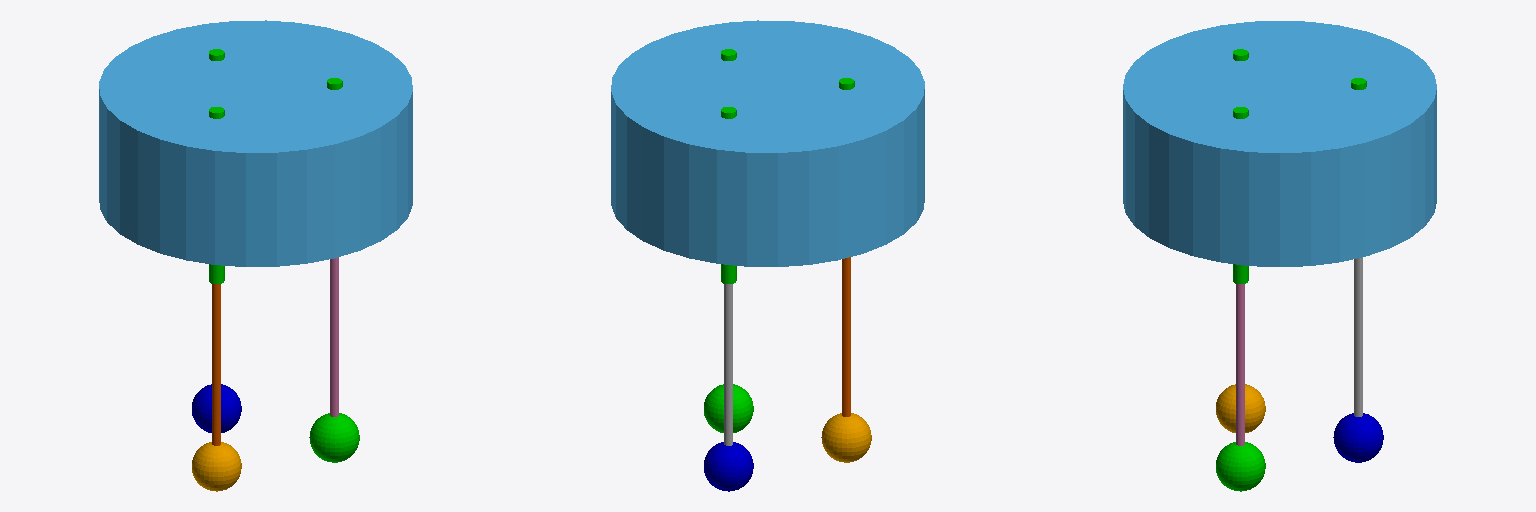
robot.urdf — gurdy:
<robot name="gurdy">

    <material name="blue">
        <color rgba="0 0 0.8 1"/>
    </material>
    <material name="red">
        <color rgba="0.8 0 0 1"/>
    </material>
    <material name="green">
        <color rgba="0 0.8 0 1"/>
    </material>
	<!-- * * * Link Definitions * * * -->

    <link name="base_link">
        <collision>
            <origin xyz="0 0 0" rpy="0 0 0"/>
            <geometry>
                <box size="0.01 0.01 0.01"/>
            </geometry>
        </collision>
		<visual>
		    <origin xyz="0 0 0.01" rpy="0 0 0"/>
			<geometry>
				<box size="0.01 0.01 0.01"/>
			</geometry>
		</visual>
	</link>

    <link name="head_link">
 	    <inertial>
            <origin xyz="0 0 0.02" rpy="0 0 0"/>
            <mass value="0.01" />
            <inertia ixx="7.58333333333e-07" ixy="0.0" ixz="0.0" iyy="7.58333333333e-07" iyz="0.0" izz="1.25e-06"/>
        </inertial>
        <collision>
            <origin xyz="0 0 0.02" rpy="0 0 0"/>
            <geometry>
                <cylinder radius="0.05" length="0.04"/>
            </geometry>
        </collision>
        <visual>
            <origin rpy="0.0 0 0" xyz="0 0 0"/>
            <geometry>
                <cylinder radius="0.05" length="0.04"/>
                <!-- <mesh filename="package://my_gurdy_description/models/gurdy/meshes/gurdy_head_v2.dae"/> -->
             <material name="red"/>
           </geometry>
        </visual>
	</link>

    <gazebo reference="head_link">
        <mu1>10.0</mu1>
        <mu2>10.0</mu2>
    </gazebo>

    <joint name="fixed" type="fixed">
        <parent link="base_link"/>
        <child link="head_link"/>
    </joint>

    <link name="upperleg_M1_link">
 	    <inertial>
            <origin xyz="0 0 0.03" rpy="0 0 0"/>
            <mass value="0.01" />
            <inertia ixx="3.015625e-05" ixy="0.0" ixz="0.0" iyy="3.015625e-05" iyz="0.0" izz="3.125e-07"/>
        </inertial>
        <collision>
            <origin xyz="0 0 0.03" rpy="0 0 0"/>
            <geometry>
                <cylinder radius="0.06" length="0.04"/>
            </geometry>
        </collision>
        <visual>
            <origin rpy="0.0 0 0" xyz="0 0 0"/>
            <geometry>
                <cylinder length="0.06" radius="0.0025"/>
                                <!-- <mesh filename="package://my_gurdy_description/models/gurdy/meshes/gurdy_higherleg_v2.dae"/> -->
            </geometry>
             <material name="green"/>
       </visual>
	</link>


    <joint name="head_upperlegM1_joint" type="revolute">
    	<parent link="head_link"/>
    	<child link="upperleg_M1_link"/>
        <origin xyz="-0.02165 -0.0125 -0.008" rpy="3.14159 0 0.523599"/>
        <limit lower="-0.2" upper="0.2" effort="1.0" velocity="0.005"/>
        <axis xyz="0 1 0"/>
	</joint>


    <gazebo>
        <plugin name="gazebo_ros_control" filename="libgazebo_ros_control.so">
            <robotNamespace>/gurdy</robotNamespace>
        </plugin>
    </gazebo>

    <transmission name="tran1">
        <type>transmission_interface/SimpleTransmission</type>
        <joint name="head_upperlegM1_joint">
            <hardwareInterface>EffortJointInterface</hardwareInterface>
        </joint>
        <actuator name="motor1">
            <hardwareInterface>EffortJointInterface</hardwareInterface>
            <mechanicalReduction>1</mechanicalReduction>
        </actuator>
    </transmission>

    <link name="upperleg_M2_link">
 	    <inertial>
            <origin xyz="0 0 0.03" rpy="0 0 0"/>
            <mass value="0.01" />
            <inertia ixx="3.015625e-05" ixy="0.0" ixz="0.0" iyy="3.015625e-05" iyz="0.0" izz="3.125e-07"/>
        </inertial>
        <collision>
            <origin xyz="0 0 0.03" rpy="0 0 0"/>
            <geometry>
                <cylinder length="0.06" radius="0.0025"/>
            </geometry>
        </collision>
        <visual>
            <origin rpy="0.0 0 0" xyz="0 0 0"/>
            <geometry>
                <cylinder length="0.06" radius="0.0025"/>
                <!-- <mesh filename="package://my_gurdy_description/models/gurdy/meshes/gurdy_higherleg_v2.dae"/> -->
            </geometry>
             <material name="green"/>
        </visual>
	</link>


    <joint name="head_upperlegM2_joint" type="revolute">
    	<parent link="head_link"/>
    	<child link="upperleg_M2_link"/>
        <origin xyz="0.02165 -0.0125 -0.008" rpy="3.14159 0 2.61799"/>
        <limit lower="-0.2" upper="0.2" effort="1.0" velocity="0.005"/>
        <axis xyz="0 1 0"/>
	</joint>

    <transmission name="tran2">
        <type>transmission_interface/SimpleTransmission</type>
        <joint name="head_upperlegM2_joint">
            <hardwareInterface>EffortJointInterface</hardwareInterface>
        </joint>
        <actuator name="motor2">
            <hardwareInterface>EffortJointInterface</hardwareInterface>
            <mechanicalReduction>1</mechanicalReduction>
        </actuator>
    </transmission>


    <link name="upperleg_M3_link">
 	    <inertial>
            <origin xyz="0 0 0.03" rpy="0 0 0"/>
            <mass value="0.01" />
            <inertia ixx="3.015625e-05" ixy="0.0" ixz="0.0" iyy="3.015625e-05" iyz="0.0" izz="3.125e-07"/>
        </inertial>
        <collision>
            <origin xyz="0 0 0.03" rpy="0 0 0"/>
            <geometry>
                <cylinder length="0.06" radius="0.0025"/>
            </geometry>
        </collision>
        <visual>
            <origin rpy="0.0 0 0" xyz="0 0 0"/>
            <geometry>
                <cylinder length="0.06" radius="0.0025"/>
                <!-- <mesh filename="package://my_gurdy_description/models/gurdy/meshes/gurdy_higherleg_v2.dae"/> -->
            </geometry>
             <material name="green"/>
        </visual>
	</link>


    <joint name="head_upperlegM3_joint" type="revolute">
    	<parent link="head_link"/>
    	<child link="upperleg_M3_link"/>
        <origin xyz="0 0.025 -0.008" rpy="3.14159 0 -1.5708"/>
        <limit lower="-0.2" upper="0.2" effort="1.0" velocity="0.005"/>
        <axis xyz="0 1 0"/>
	</joint>

    <transmission name="tran3">
        <type>transmission_interface/SimpleTransmission</type>
        <joint name="head_upperlegM3_joint">
            <hardwareInterface>EffortJointInterface</hardwareInterface>
        </joint>
        <actuator name="motor3">
            <hardwareInterface>EffortJointInterface</hardwareInterface>
            <mechanicalReduction>1</mechanicalReduction>
        </actuator>
    </transmission>


    <link name="lowerleg_M1_link">
 	    <inertial>
            <origin xyz="0 0 0.03" rpy="0 0 0"/>
            <mass value="0.01" />
            <inertia ixx="3.005625e-05" ixy="0.0" ixz="0.0" iyy="3.005625e-05" iyz="0.0" izz="1.125e-07"/>
        </inertial>
        <collision>
            <origin xyz="0 0 0.03" rpy="0 0 0"/>
            <geometry>
                <cylinder length="0.06" radius="0.0015"/>
            </geometry>
        </collision>
        <visual>
            <origin rpy="0.0 0 0" xyz="0 0 0"/>
            <geometry>
                <cylinder length="0.06" radius="0.0015"/>
                <!-- <mesh filename="package://my_gurdy_description/models/gurdy/meshes/gurdy_lowerleg_v2.dae"/> -->
            </geometry>
        </visual>
	</link>


    <joint name="upperlegM1_lowerlegM1_joint" type="revolute">
    	<parent link="upperleg_M1_link"/>
    	<child link="lowerleg_M1_link"/>
        <origin xyz="0 0.00 0.06"/>
        <limit lower="-0.2" upper="0.2" effort="1.0" velocity="0.005"/>
        <axis xyz="0 1 0"/>
	</joint>

    <transmission name="tran4">
        <type>transmission_interface/SimpleTransmission</type>
        <joint name="upperlegM1_lowerlegM1_joint">
            <hardwareInterface>EffortJointInterface</hardwareInterface>
        </joint>
        <actuator name="motor4">
            <hardwareInterface>EffortJointInterface</hardwareInterface>
            <mechanicalReduction>1</mechanicalReduction>
        </actuator>
    </transmission>

    <link name="lowerleg_M2_link">
 	    <inertial>
            <origin xyz="0 0 0.03" rpy="0 0 0"/>
            <mass value="0.01" />
            <inertia ixx="3.005625e-05" ixy="0.0" ixz="0.0" iyy="3.005625e-05" iyz="0.0" izz="1.125e-07"/>
        </inertial>
        <collision>
            <origin xyz="0 0 0.03" rpy="0 0 0"/>
            <geometry>
                <cylinder length="0.06" radius="0.0015"/>
            </geometry>
        </collision>
        <visual>
            <origin rpy="0.0 0 0" xyz="0 0 0"/>
            <geometry>
                <cylinder length="0.06" radius="0.0015"/>
                <!-- <mesh filename="package://my_gurdy_description/models/gurdy/meshes/gurdy_lowerleg_v2.dae"/> -->
            </geometry>
        </visual>
	</link>


    <joint name="upperlegM2_lowerlegM2_joint" type="revolute">
    	<parent link="upperleg_M2_link"/>
    	<child link="lowerleg_M2_link"/>
        <origin xyz="0 0.00 0.06" rpy="0 0 0"/>
        <limit lower="-0.2" upper="0.2" effort="1.0" velocity="0.005"/>
        <axis xyz="0 1 0"/>
	</joint>

    <transmission name="tran5">
        <type>transmission_interface/SimpleTransmission</type>
        <joint name="upperlegM2_lowerlegM2_joint">
            <hardwareInterface>EffortJointInterface</hardwareInterface>
        </joint>
        <actuator name="motor5">
            <hardwareInterface>EffortJointInterface</hardwareInterface>
            <mechanicalReduction>1</mechanicalReduction>
        </actuator>
    </transmission>

    <link name="lowerleg_M3_link">
 	    <inertial>
            <origin xyz="0 0 0.03" rpy="0 0 0"/>
            <mass value="0.01" />
            <inertia ixx="3.005625e-05" ixy="0.0" ixz="0.0" iyy="3.005625e-05" iyz="0.0" izz="1.125e-07"/>
        </inertial>
        <collision>
            <origin xyz="0 0 0.03" rpy="0 0 0"/>
            <geometry>
                <cylinder length="0.06" radius="0.0015"/>
            </geometry>
        </collision>
        <visual>
            <origin rpy="0.0 0 0" xyz="0 0 0"/>
            <geometry>
                <cylinder length="0.06" radius="0.0015"/>
                <!-- <mesh filename="package://my_gurdy_description/models/gurdy/meshes/gurdy_lowerleg_v2.dae"/> -->
            </geometry>
        </visual>
	</link>


    <joint name="upperlegM3_lowerlegM3_joint" type="revolute">
    	<parent link="upperleg_M3_link"/>
    	<child link="lowerleg_M3_link"/>
        <origin xyz="0 0.00 0.06" rpy="0 0 0"/>
        <limit lower="-0.2" upper="0.2" effort="1.0" velocity="0.005"/>
        <axis xyz="0 1 0"/>
	</joint>

    <transmission name="tran6">
        <type>transmission_interface/SimpleTransmission</type>
        <joint name="upperlegM3_lowerlegM3_joint">
            <hardwareInterface>EffortJointInterface</hardwareInterface>
        </joint>
        <actuator name="motor6">
            <hardwareInterface>EffortJointInterface</hardwareInterface>
            <mechanicalReduction>1</mechanicalReduction>
        </actuator>
    </transmission>


    <link name="footM1_link">
 	    <inertial>
            <origin xyz="0 0 0" rpy="0 0 0"/>
            <mass value="0.01" />
            <inertia ixx="1.28e-06" ixy="0.0" ixz="0.0" iyy="1.28e-06" iyz="0.0" izz="1.28e-06"/>
        </inertial>
        <collision>
            <origin xyz="0 0 0" rpy="0 0 0"/>
            <geometry>
                <sphere radius="0.008"/>
            </geometry>
        </collision>
        <visual>
            <origin rpy="0.0 0 0" xyz="0 0 0"/>
            <geometry>
                <sphere radius="0.008"/>
            </geometry>
        </visual>
	</link>

    <gazebo reference="footM1_link">
        <kp>1000.0</kp>
        <kd>1000.0</kd>
        <mu1>10.0</mu1>
        <mu2>10.0</mu2>
        <material>Gazebo/Red</material>
    </gazebo>


    <joint name="basefoot_peg_M1_basefoot_peg_M1_joint_joint" type="fixed">
        <parent link="lowerleg_M1_link"/>
        <child link="footM1_link"/>
        <origin xyz="0 0 0.035" rpy="0 0 0"/>
    </joint>

    <link name="footM2_link">
 	    <inertial>
            <origin xyz="0 0 0" rpy="0 0 0"/>
            <mass value="0.01" />
            <inertia ixx="1.28e-06" ixy="0.0" ixz="0.0" iyy="1.28e-06" iyz="0.0" izz="1.28e-06"/>
        </inertial>
        <collision>
            <origin xyz="0 0 0" rpy="0 0 0"/>
            <geometry>
                <sphere radius="0.008"/>
            </geometry>
        </collision>
        <visual>
            <origin rpy="0.0 0 0" xyz="0 0 0"/>
            <geometry>
                <sphere radius="0.008"/>
            </geometry>
              <material name="green"/>
       </visual>
	</link>

    <gazebo reference="footM2_link">
        <kp>1000.0</kp>
        <kd>1000.0</kd>
        <mu1>10.0</mu1>
        <mu2>10.0</mu2>
        <material>Gazebo/Green</material>
    </gazebo>

    <joint name="basefoot_peg_M2_basefoot_peg_M2_joint_joint" type="fixed">
        <parent link="lowerleg_M2_link"/>
        <child link="footM2_link"/>
        <origin xyz="0 0 0.035" rpy="0 0 0"/>
    </joint>

    <link name="footM3_link">
 	    <inertial>
            <origin xyz="0 0 0" rpy="0 0 0"/>
            <mass value="0.01" />
            <inertia ixx="1.28e-06" ixy="0.0" ixz="0.0" iyy="1.28e-06" iyz="0.0" izz="1.28e-06"/>
        </inertial>
        <collision>
            <origin xyz="0 0 0" rpy="0 0 0"/>
            <geometry>
                <sphere radius="0.008"/>
            </geometry>
        </collision>
        <visual>
            <origin rpy="0.0 0 0" xyz="0 0 0"/>
            <geometry>
                <sphere radius="0.008"/>
            </geometry>
              <material name="blue"/>
        </visual>
	</link>

    <gazebo reference="footM3_link">
        <kp>1000.0</kp>
        <kd>1000.0</kd>
        <mu1>10.0</mu1>
        <mu2>10.0</mu2>
        <material>Gazebo/Blue</material>
    </gazebo>

    <joint name="basefoot_peg_M3_basefoot_peg_M3_joint_joint" type="fixed">
        <parent link="lowerleg_M3_link"/>
        <child link="footM3_link"/>
        <origin xyz="0 0 0.035" rpy="0 0 0"/>

    </joint>


    <gazebo>
        <plugin name="gazebo_ros_imu_controller" filename="libgazebo_ros_imu.so">
          <robotNamespace>/gurdy</robotNamespace>
          <topicName>imu/data</topicName>
          <serviceName>imu/service</serviceName>
          <bodyName>base_link</bodyName>
          <gaussianNoise>0</gaussianNoise>
          <rpyOffsets>0 0 0</rpyOffsets>
          <updateRate>10.0</updateRate>
          <alwaysOn>true</alwaysOn>
          <gaussianNoise>0</gaussianNoise>
        </plugin>
    </gazebo>
</robot>

--- Render facts (derived) ---
3 views of the same robot in one strip: view 1: azimuth 30°, elevation 25°; view 2: azimuth 150°, elevation 25°; view 3: azimuth 270°, elevation 25° (orthographic).
Robot: gurdy — 11 links, 10 joints (6 revolute, 4 fixed); root link base_link; default pose: every joint at zero.
Visible links, largest first — view 1: head_link, footM2_link, footM1_link, footM3_link, lowerleg_M1_link, lowerleg_M2_link; view 2: head_link, footM1_link, footM3_link, footM2_link, lowerleg_M3_link, lowerleg_M1_link; view 3: head_link, footM3_link, footM2_link, footM1_link, lowerleg_M2_link, lowerleg_M3_link.
Link boxes in pixels (x1,y1,x2,y2): head_link: [99, 20, 412, 266]; footM2_link: [309, 413, 359, 462]; footM1_link: [192, 442, 241, 491]; footM3_link: [192, 384, 241, 432]; lowerleg_M1_link: [212, 284, 220, 445]; lowerleg_M2_link: [330, 257, 338, 416]; head_link: [611, 20, 924, 266]; footM1_link: [821, 413, 871, 462]; footM3_link: [704, 442, 753, 491]; footM2_link: [704, 384, 753, 432]; lowerleg_M3_link: [724, 284, 732, 445]; lowerleg_M1_link: [842, 257, 850, 416]; head_link: [1123, 21, 1436, 266]; footM3_link: [1333, 413, 1383, 462]; footM2_link: [1216, 442, 1265, 491]; footM1_link: [1216, 384, 1265, 432]; lowerleg_M2_link: [1236, 284, 1244, 445]; lowerleg_M3_link: [1354, 257, 1362, 416].
Bounding box of the posed robot: 0.1 × 0.1 × 0.133 m (x, y, z).
Geometry: primitives only (box / cylinder / sphere), no mesh files.